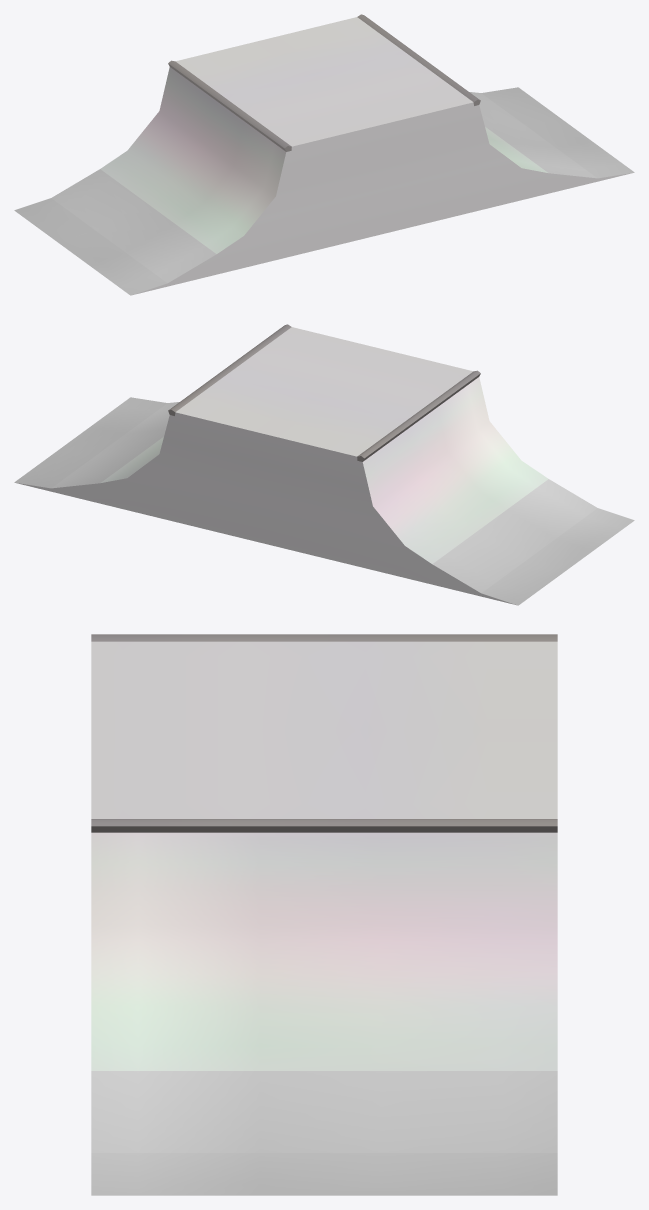
Rendered from SkateboardTabletopRampCement.glb.
The picture shows the model from 3 angles, top to bottom: view 1: azimuth 30°, elevation 25°; view 2: azimuth 150°, elevation 25°; view 3: azimuth 270°, elevation 25°; orthographic projection. The views are drawn at different scales.
Parts seen in each view (by area): view 1: SkateboardTabletopRampCement; view 2: SkateboardTabletopRampCement; view 3: SkateboardTabletopRampCement.
Boxes of the visible parts, x1,y1,x2,y2 form: SkateboardTabletopRampCement: (14, 14, 634, 295); SkateboardTabletopRampCement: (14, 324, 634, 605); SkateboardTabletopRampCement: (91, 634, 557, 1195).
Size of the model in its own units: 9.99 by 2.11 by 4.
Materials: 1 (1 with a texture image).
